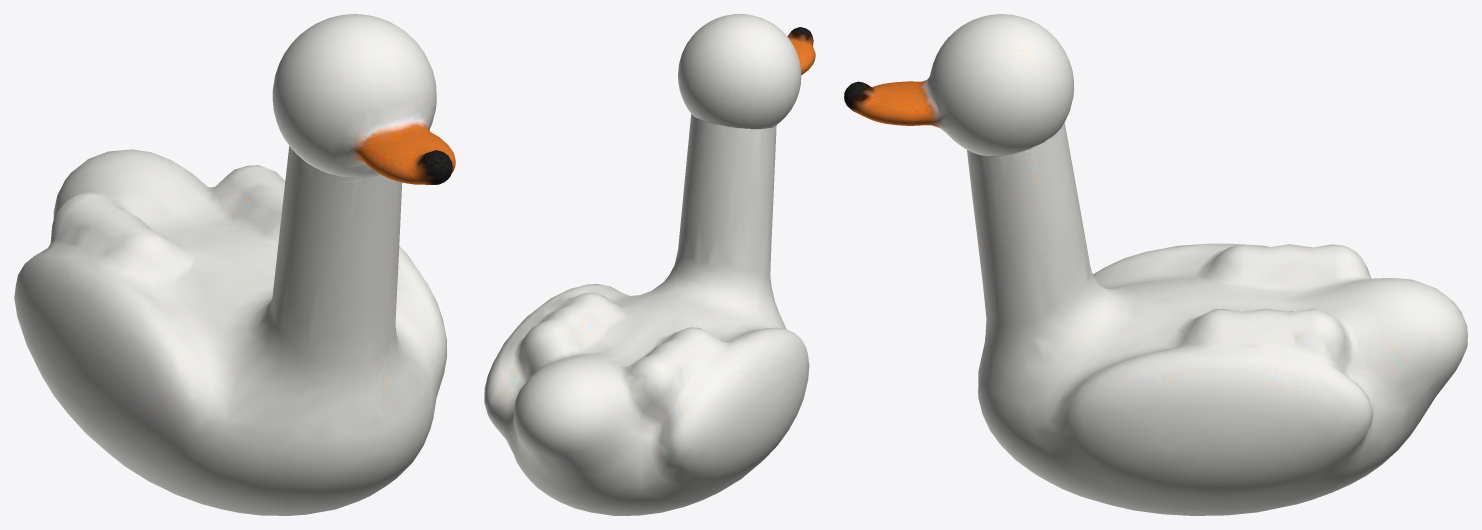
Rendered from animal_swan.glb.
3 renders of one model, left to right at view 1: azimuth 30°, elevation 25°; view 2: azimuth 150°, elevation 25°; view 3: azimuth 270°, elevation 25°, orthographic. The views are drawn at different scales.
Parts seen in each view (by area): view 1: animal_swan, head; view 2: animal_swan, head; view 3: animal_swan, head.
Boxes of the visible parts, bbox=[...] form: animal_swan: bbox=[14, 146, 446, 515]; head: bbox=[272, 14, 455, 184]; animal_swan: bbox=[484, 114, 809, 515]; head: bbox=[678, 14, 815, 128]; animal_swan: bbox=[967, 122, 1467, 515]; head: bbox=[844, 14, 1074, 156].
Bounding box in the file's own units: 0.1733 × 0.2758 × 0.3276.
1 material, 1 textured.
